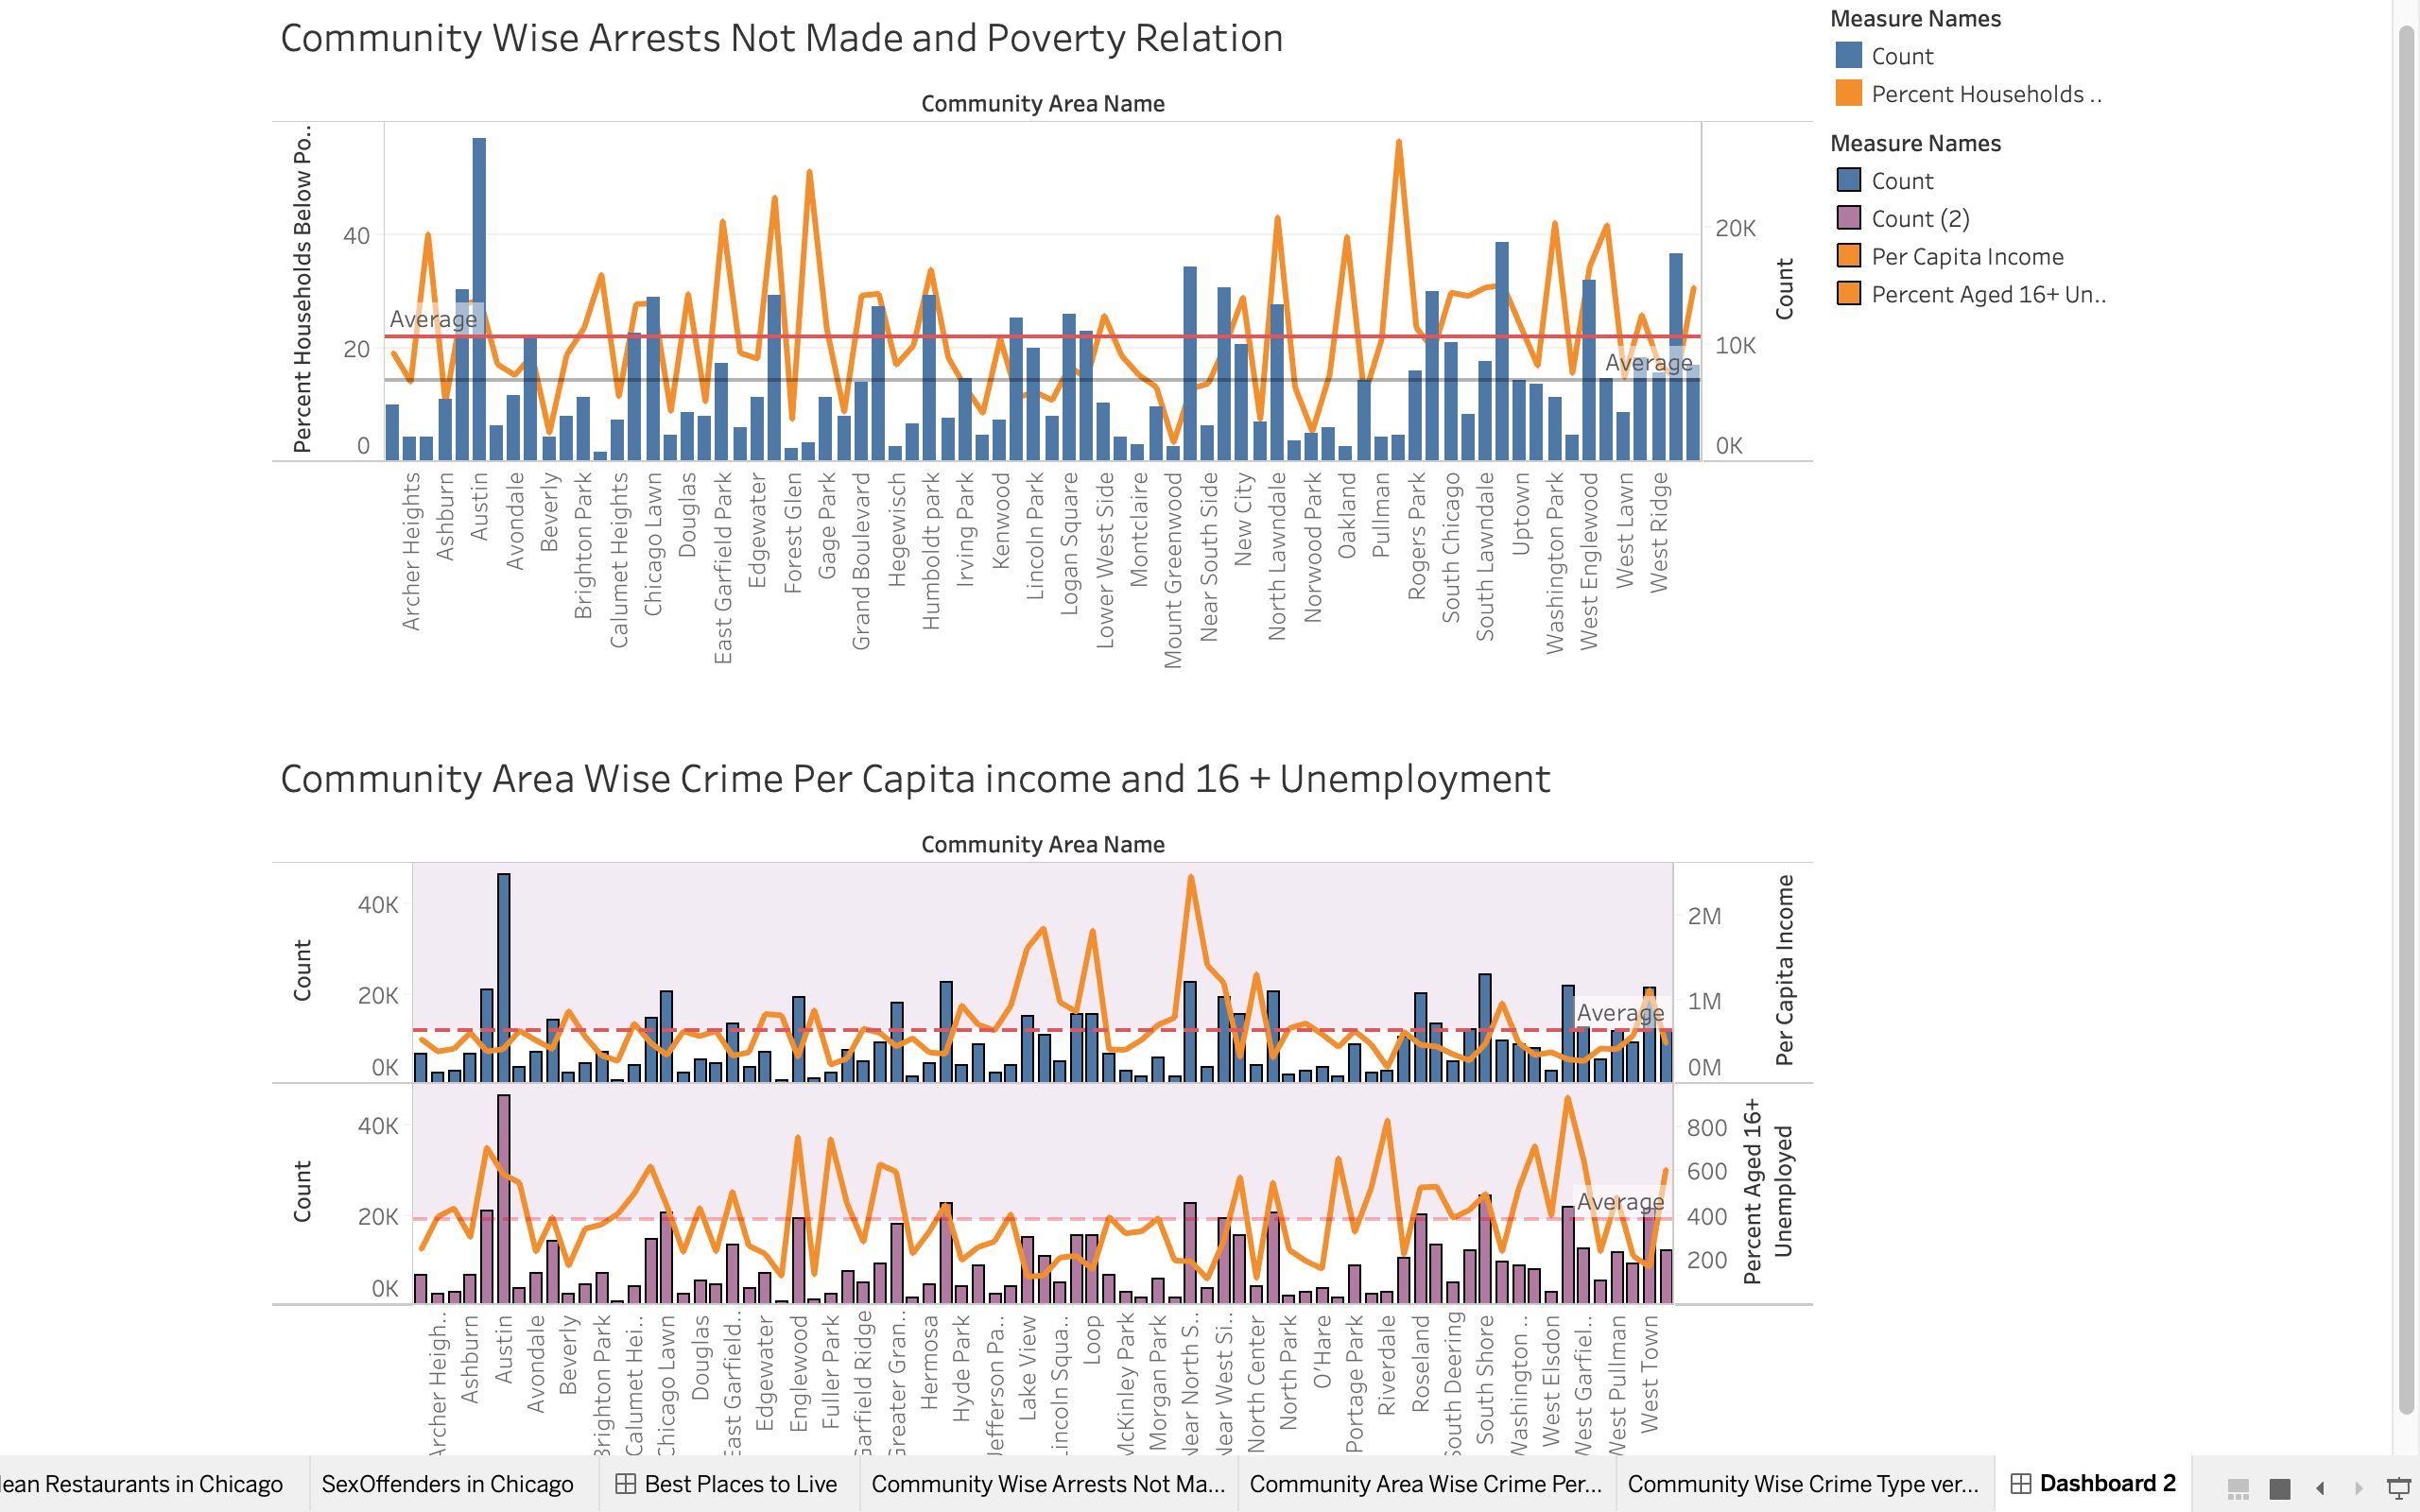

This screenshot's page, from the dashboard's own definition file:
{"tool":"tableau","page":{"name":"Dashboard 2","canvas":[1000,800],"ordinal":1},"visuals":[{"type":"worksheet","title":"Community Wise Arrests Not Made and Poverty Relation","mark":"Automatic","rows":["count","PERCENT HOUSEHOLDS BELOW POVERTY"],"cols":["COMMUNITY AREA NAME"],"box":[8,8,824,392]},{"type":"legend","title":"Community Wise Arrests Not Made and Poverty Relation","param":"[federated.14g5xpr05bjwwl12vbyzl1r60q38].[:Measure Names]","box":[832,8,160,66]},{"type":"legend","title":"Community Area Wise Crime Per Capita income and 16 + Unemployment","param":"[federated.1qxbyk01stqr761e4kapy1mzh8ha].[:Measure Names]","box":[832,74,160,106]},{"type":"worksheet","title":"Community Area Wise Crime Per Capita income and 16 + Unemployment","mark":"Line","rows":["count","PER_CAPITA_INCOME","count","PERCENT AGED 16+ UNEMPLOYED"],"cols":["COMMUNITY AREA NAME"],"box":[8,400,824,392]}]}

Visuals, with their boxes on the page's 1000x800 design canvas (x1, y1, x2, y2). These are canvas units, not pixel positions in the 2420x1512 screenshot, which may show the page scaled, cropped or inside an application window:
"Community Wise Arrests Not Made and Poverty Relation" worksheet: 8 8 832 400
"Community Wise Arrests Not Made and Poverty Relation" legend: 832 8 992 74
"Community Area Wise Crime Per Capita income and 16 + Unemployment" legend: 832 74 992 180
"Community Area Wise Crime Per Capita income and 16 + Unemployment" worksheet (Line marks): 8 400 832 792
